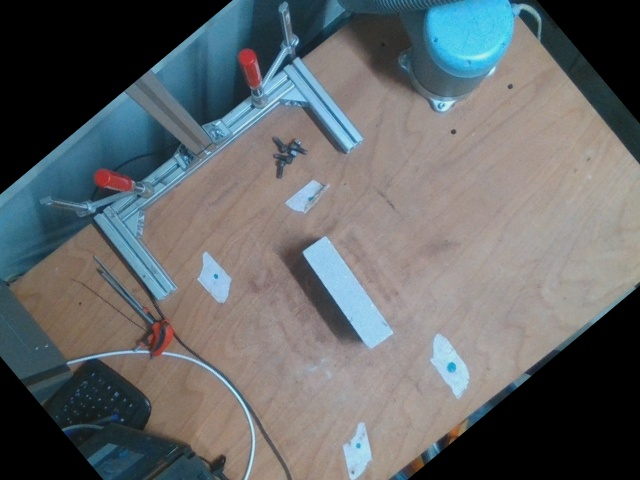brick-side: (301, 236, 393, 351)
